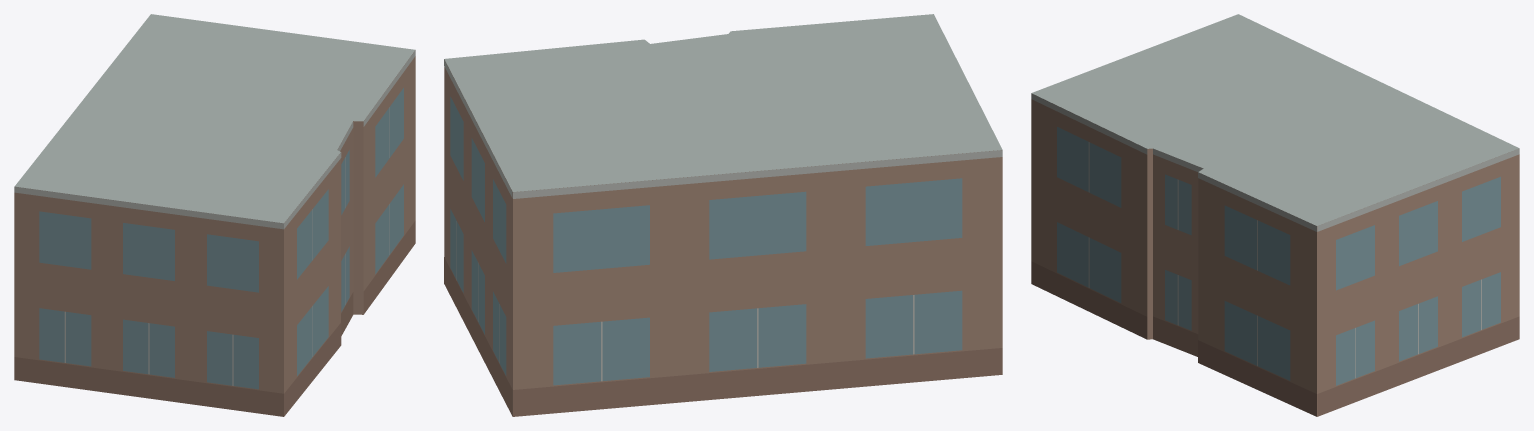
The model's file is survey-upis-32624893.glb.
3 views of the same model, side by side, from view 1: azimuth 30°, elevation 25°; view 2: azimuth 150°, elevation 25°; view 3: azimuth 270°, elevation 25° (orthographic). The views are drawn at different scales.
Visible parts, largest first — view 1: survey-upis-32624893.tmp; view 2: survey-upis-32624893.tmp; view 3: survey-upis-32624893.tmp.
Part boxes in pixels (left/top/right/bottom): survey-upis-32624893.tmp: left=14, top=14, right=415, bottom=416; survey-upis-32624893.tmp: left=444, top=14, right=1002, bottom=416; survey-upis-32624893.tmp: left=1031, top=14, right=1519, bottom=416.
Size of the model in its own units: 18.73 by 7.85 by 18.22.
